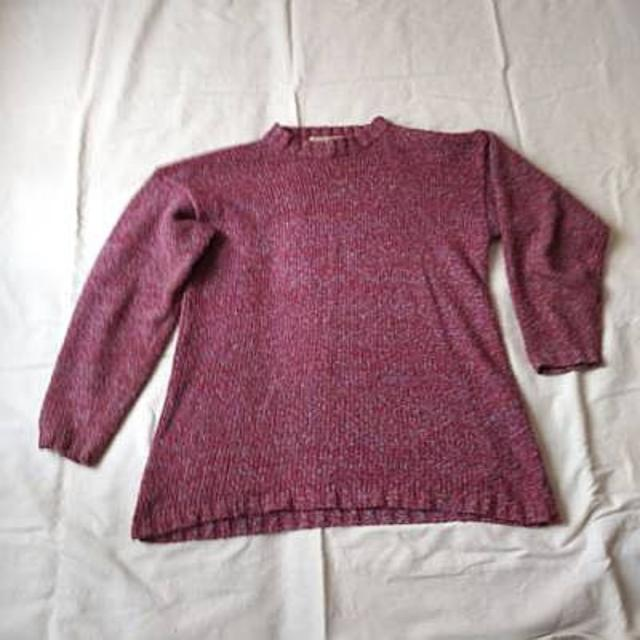SHIRT: (25, 106, 624, 552)
